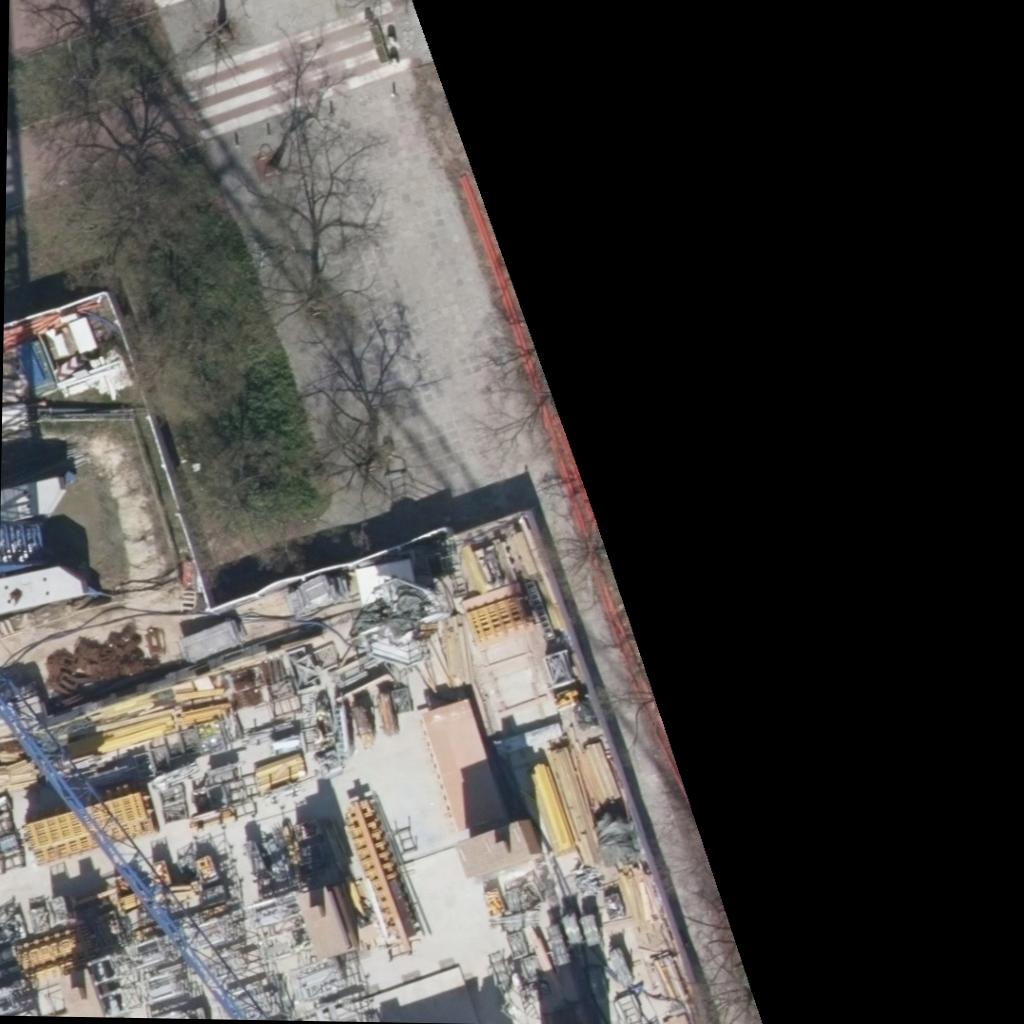zuraw_wiezowy: (0, 668, 265, 1019)
